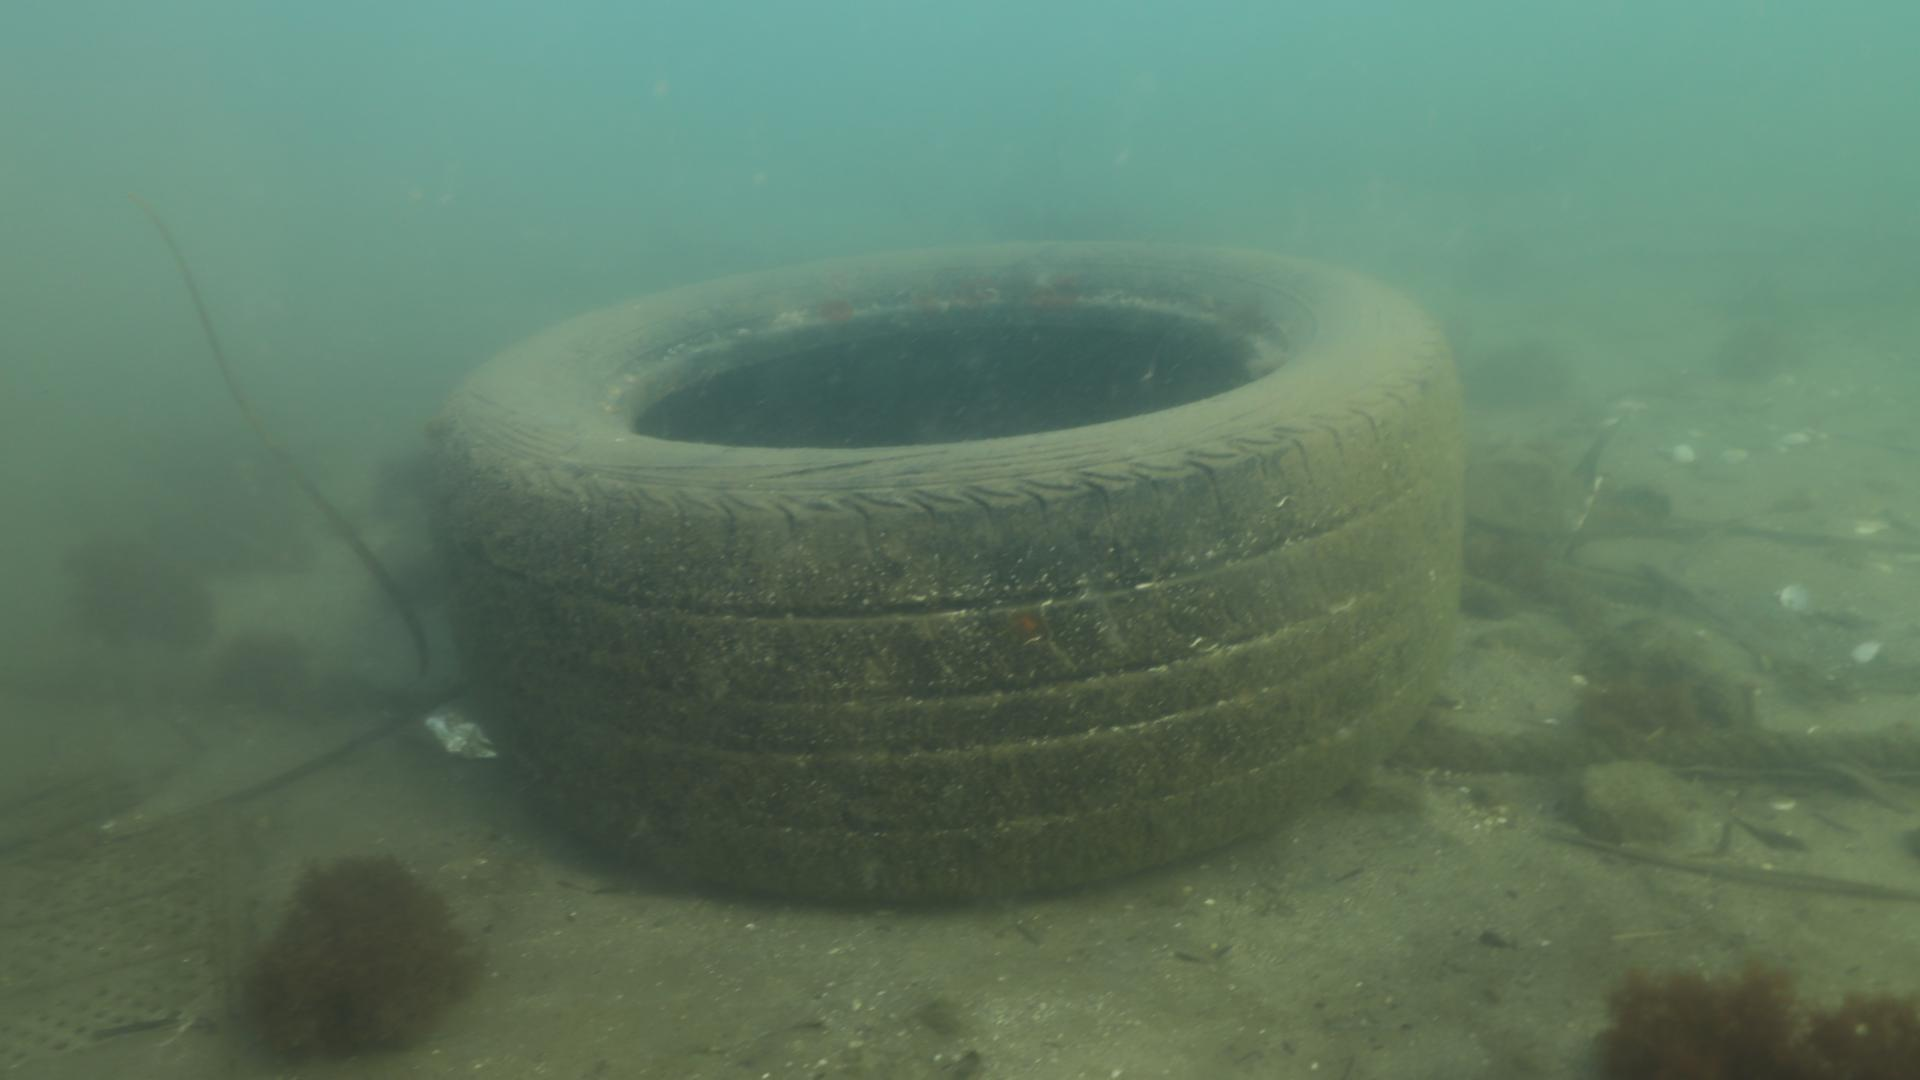tire: (431, 239, 1466, 910)
